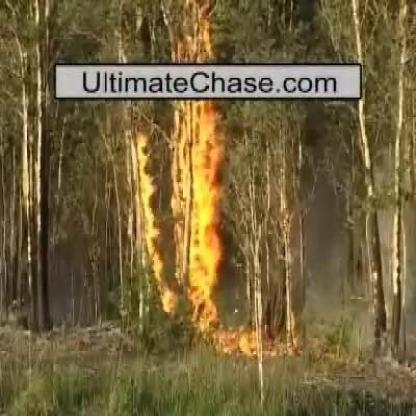foggia-v2-map80-epoch100 - v1 4323: (178, 104, 216, 309), (220, 329, 250, 355)
